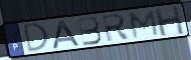A: (51, 19, 83, 50)
B: (76, 16, 104, 47)
D: (22, 22, 50, 54)
H: (152, 4, 186, 37)
M: (128, 9, 160, 39)
R: (101, 12, 134, 44)
